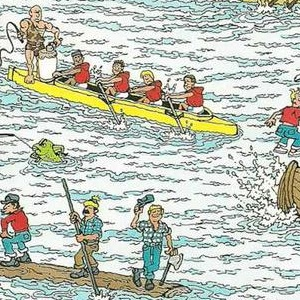Wenda: (138, 134, 162, 166)
